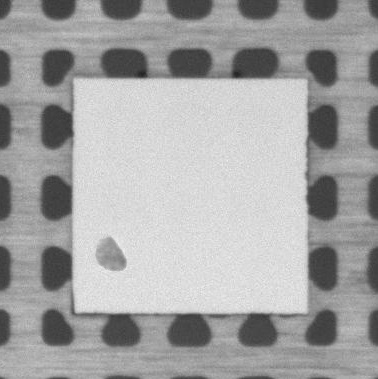DIE_INK: (90, 232, 130, 276)
